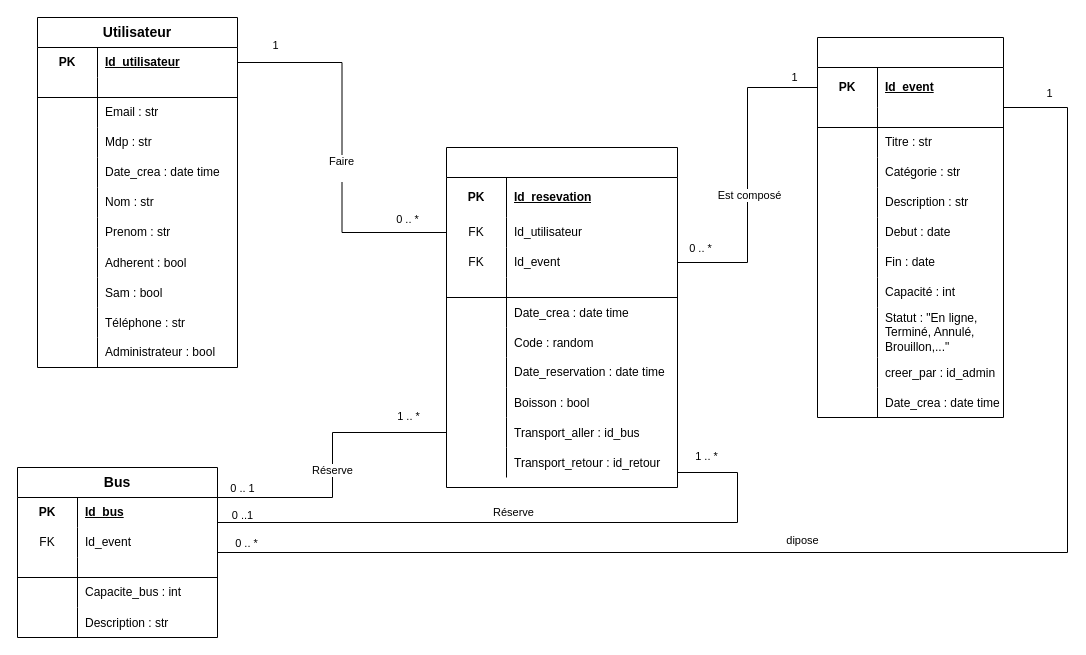
Some shapes in this 1086 by 655 pixel diagram are drawn without their labels. Here are the shapes that lost their labels. From the top down, the box of each, then its label:
(816, 36, 1004, 418): Evènement
(446, 146, 678, 488): Réservation
